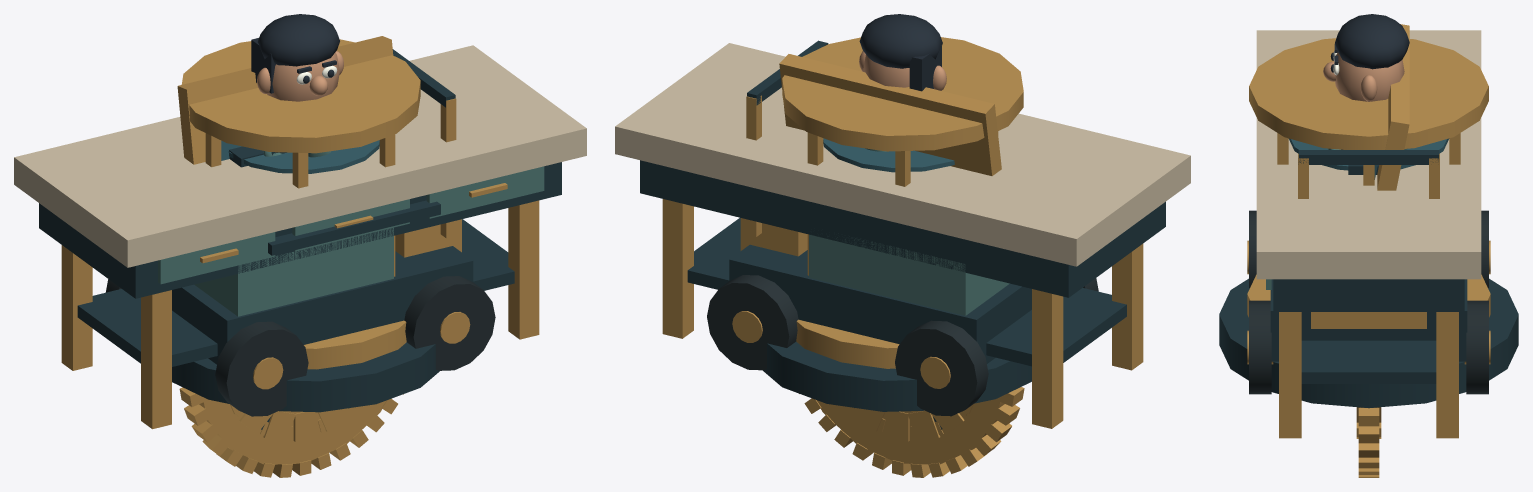
Rendered from academy-kit.glb.
3 renders of one model, left to right at view 1: azimuth 30°, elevation 25°; view 2: azimuth 150°, elevation 25°; view 3: azimuth 270°, elevation 25°, orthographic.
Parts seen in each view (by area): view 1: Top, Wheel (×3), UpperRing, Leg (×3), Chassis, Hood, Plinth, Apron, Shelf, Drawer (×3), Panel, Hair (+10 smaller); view 2: Top, Apron, Wheel (×3), UpperRing, Leg (×3), Chassis, Hood, Plinth, Shelf, Panel, Hair, BaseRing (+8 smaller); view 3: Top, UpperRing, Plinth, Apron, Shelf, Leg (×2), Wheel (×4), Hair, Chassis, Panel, HandleGrip, Battery (+9 smaller).
Boxes of the visible parts, box(x1,y1,x2,y2) form: Top: box(14, 45, 586, 267); Wheel (×3): box(199, 276, 495, 464); UpperRing: box(181, 39, 420, 153); Leg (×3): box(61, 200, 539, 429); Chassis: box(172, 246, 473, 364); Hood: box(194, 227, 393, 316); Plinth: box(172, 342, 439, 412); Apron: box(39, 162, 561, 298); Shelf: box(77, 219, 514, 366); Drawer (×3): box(158, 166, 544, 284); Panel: box(177, 36, 393, 164); Hair: box(258, 14, 339, 66); Top: box(615, 43, 1190, 266); Apron: box(640, 160, 1165, 297); Wheel (×3): box(707, 275, 1004, 464); UpperRing: box(782, 37, 1023, 151); Leg (×3): box(662, 199, 1143, 428); Chassis: box(729, 244, 1031, 363); Hood: box(809, 233, 1009, 315); Plinth: box(763, 341, 1031, 411); Shelf: box(687, 217, 1126, 366); Panel: box(779, 54, 1001, 175); Hair: box(859, 14, 942, 68); BaseRing: box(796, 319, 899, 368); Top: box(1256, 30, 1481, 279); UpperRing: box(1249, 38, 1488, 149); Plinth: box(1219, 278, 1518, 408); Apron: box(1273, 279, 1464, 311); Shelf: box(1301, 340, 1436, 383); Leg (×2): box(1279, 312, 1458, 438); Wheel (×4): box(1249, 210, 1488, 394); Hair: box(1335, 14, 1409, 69); Chassis: box(1270, 279, 1467, 361); Panel: box(1377, 24, 1409, 190); HandleGrip: box(1298, 150, 1439, 164); Battery: box(1311, 312, 1426, 328).
Bounding box in the file's own units: 2.8 × 2.63 × 1.6.
